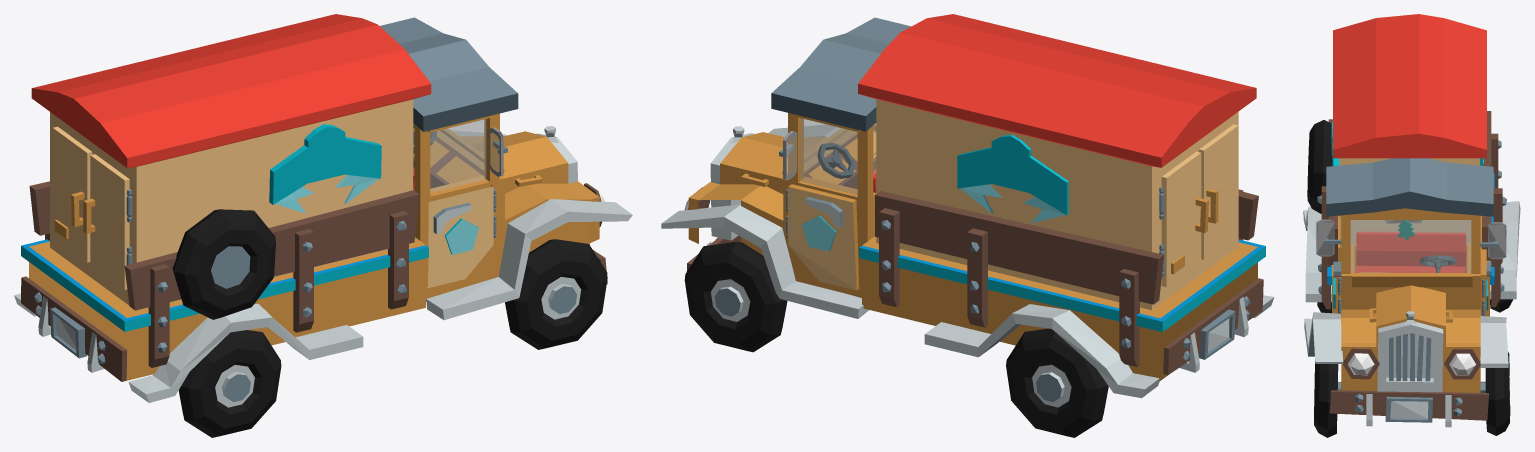
File: Old Truck.glb
3 views of the same model, side by side, from view 1: azimuth 30°, elevation 25°; view 2: azimuth 150°, elevation 25°; view 3: azimuth 270°, elevation 25° (orthographic). The views are drawn at different scales.
Parts seen in each view (by area): view 1: group289334796, group1112304448, group268468225, group1469862458, group857902562, group626617528, group60323405, group1705040499, group865495410, group1091363590, group1304164792, group1632538868 (+14 smaller); view 2: group289334796, group1112304448, group1858585215, group268468225, group748784695, group1712538178, group626617528, group413384541, group877845901, group1405761699, group753347415, group810047118 (+15 smaller); view 3: group289334796, group268468225, group626617528, group2011645476, group835424005, group878538107, group2130075363, group865495410, group1469862458, group1295512327, group748784695, group413384541 (+26 smaller).
Boxes of the visible parts, bbox=[...] form: group289334796: bbox=[31, 14, 431, 310]; group1112304448: bbox=[21, 237, 428, 380]; group268468225: bbox=[413, 128, 599, 301]; group1469862458: bbox=[172, 209, 275, 319]; group857902562: bbox=[505, 239, 607, 349]; group626617528: bbox=[380, 17, 518, 131]; group60323405: bbox=[178, 330, 281, 437]; group1705040499: bbox=[124, 190, 419, 310]; group865495410: bbox=[426, 199, 632, 320]; group1091363590: bbox=[128, 303, 363, 402]; group1304164792: bbox=[269, 124, 381, 213]; group1632538868: bbox=[90, 154, 129, 289]; group289334796: bbox=[858, 14, 1256, 310]; group1112304448: bbox=[859, 236, 1265, 380]; group1858585215: bbox=[875, 191, 1163, 304]; group268468225: bbox=[688, 123, 876, 297]; group748784695: bbox=[684, 241, 787, 352]; group1712538178: bbox=[1006, 328, 1108, 437]; group626617528: bbox=[771, 17, 911, 131]; group413384541: bbox=[924, 304, 1159, 398]; group877845901: bbox=[661, 204, 868, 318]; group1405761699: bbox=[957, 134, 1068, 223]; group753347415: bbox=[788, 184, 859, 290]; group810047118: bbox=[1161, 151, 1201, 287]; group289334796: bbox=[1333, 14, 1486, 247]; group268468225: bbox=[1341, 243, 1480, 392]; group626617528: bbox=[1326, 158, 1493, 216]; group2011645476: bbox=[1350, 220, 1471, 272]; group835424005: bbox=[1355, 232, 1466, 272]; group878538107: bbox=[1329, 390, 1488, 427]; group2130075363: bbox=[1377, 321, 1443, 392]; group865495410: bbox=[1304, 312, 1343, 363]; group1469862458: bbox=[1307, 120, 1332, 213]; group1295512327: bbox=[1352, 274, 1472, 287]; group748784695: bbox=[1485, 352, 1510, 435]; group413384541: bbox=[1490, 201, 1520, 299].
Bounding box in the file's own units: 1.02 × 0.6127 × 0.4675.
